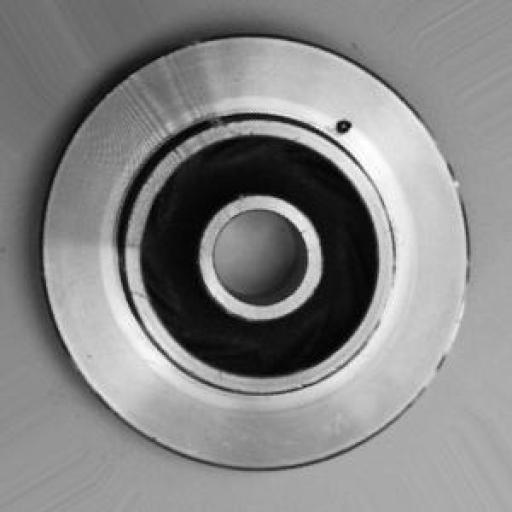defect: (309, 103, 374, 154)
